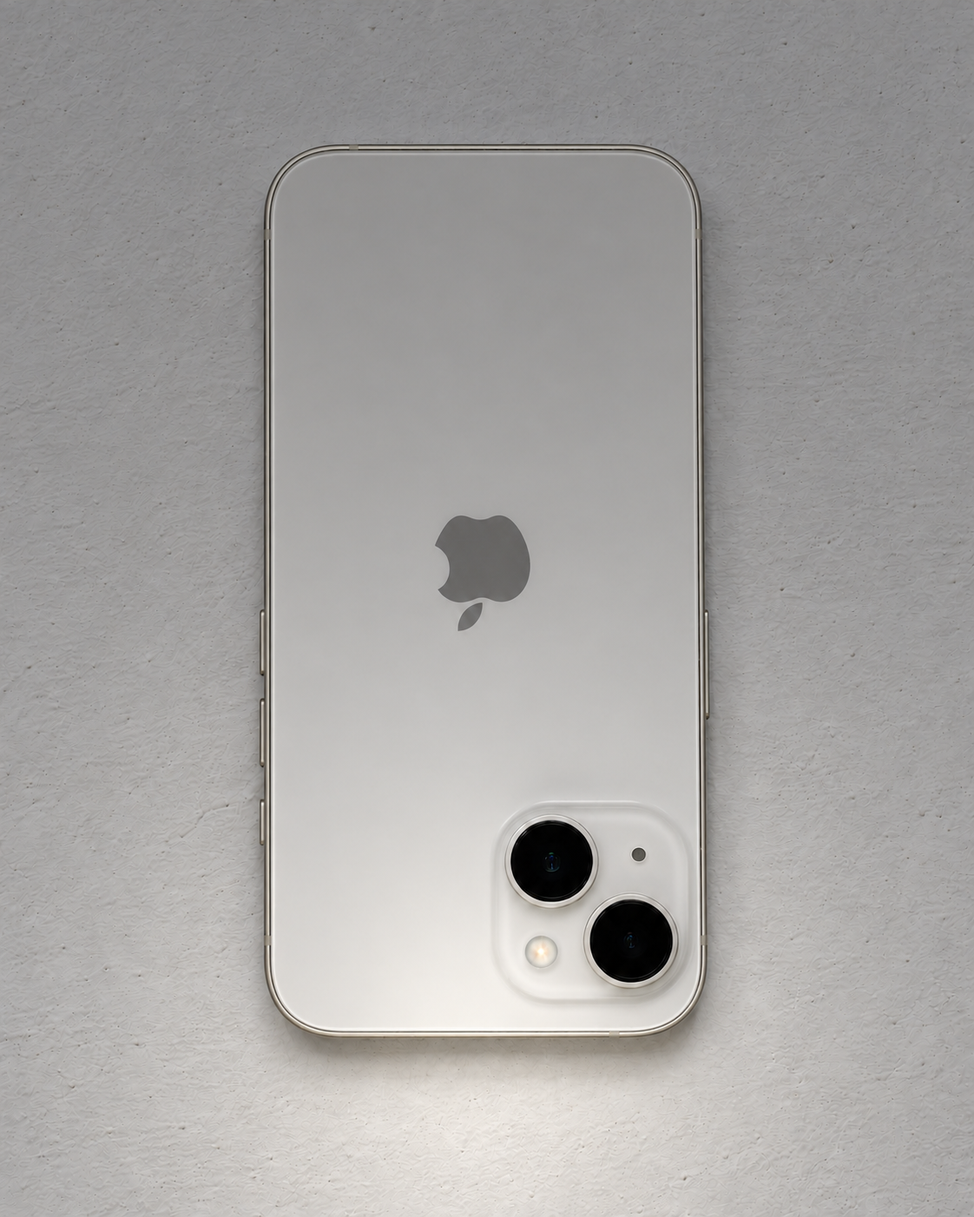iphone_14_white: (205, 86, 779, 1119), (498, 812, 694, 1000)
